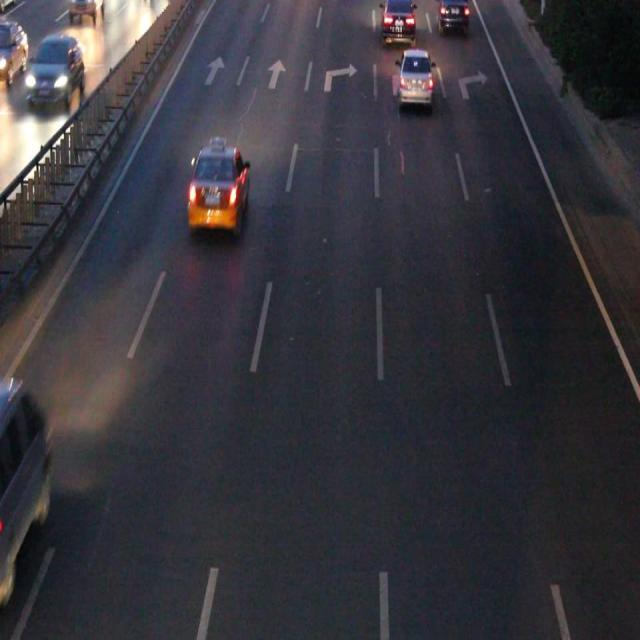car: (188, 150, 248, 228), (397, 50, 431, 104), (380, 1, 414, 42), (438, 1, 468, 32)
truck: (1, 377, 49, 569)
